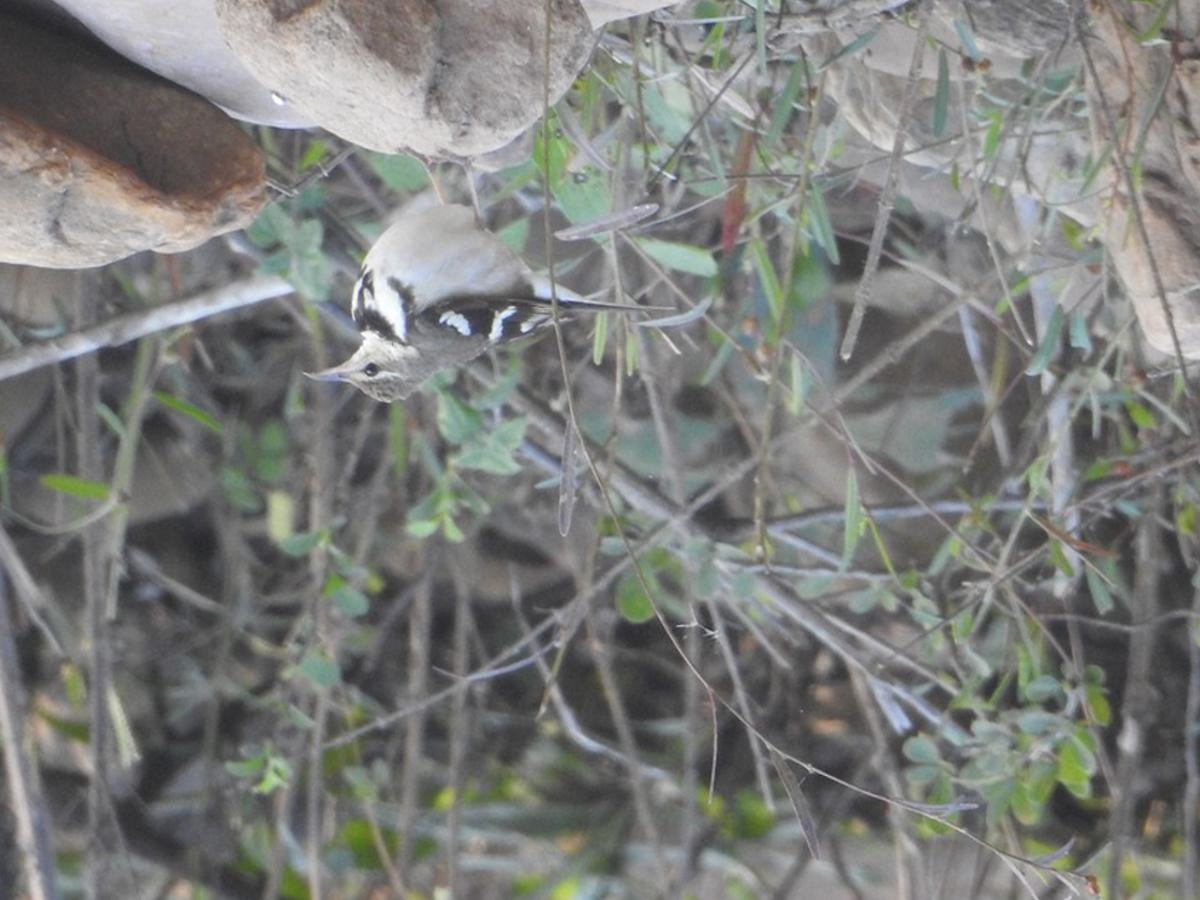wagtail: (318, 178, 566, 424)
